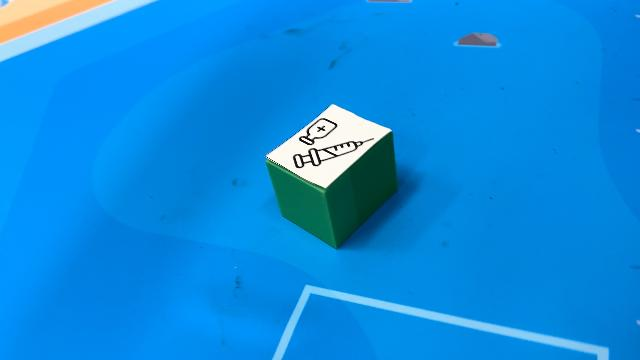syringe: (265, 103, 401, 248)
